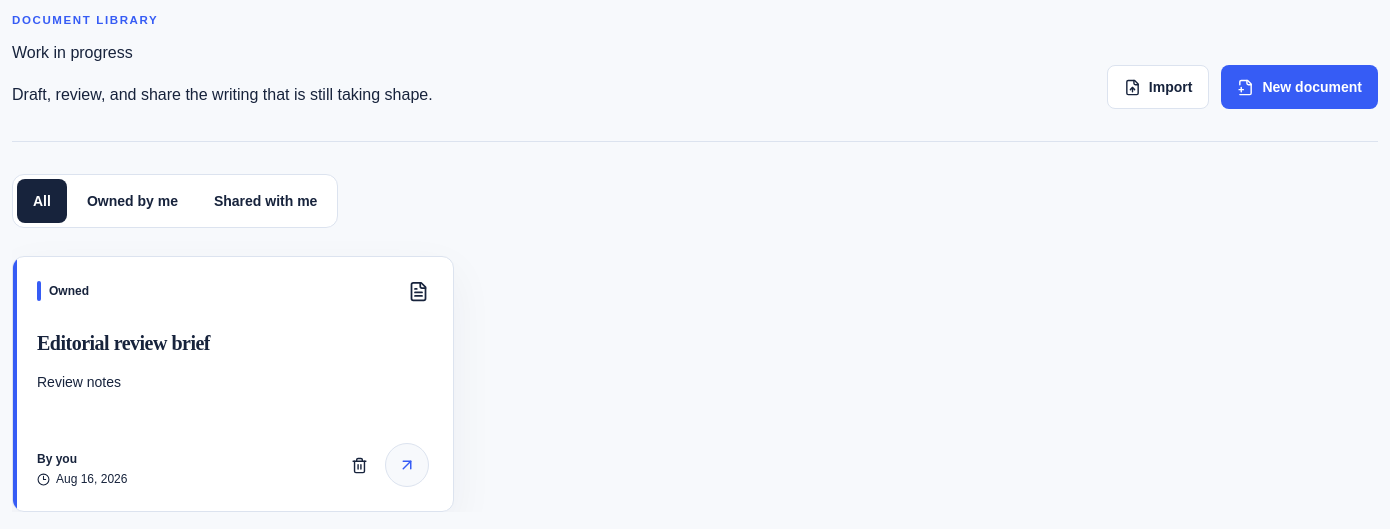
DocumentLibraryPage › labels owned and shared cards in color-independent markup
Expected: the text "Owned" is shown, [49, 283, 89, 299]
Click the tab "Shared with me".
click(266, 201)  # box [198, 179, 333, 223]
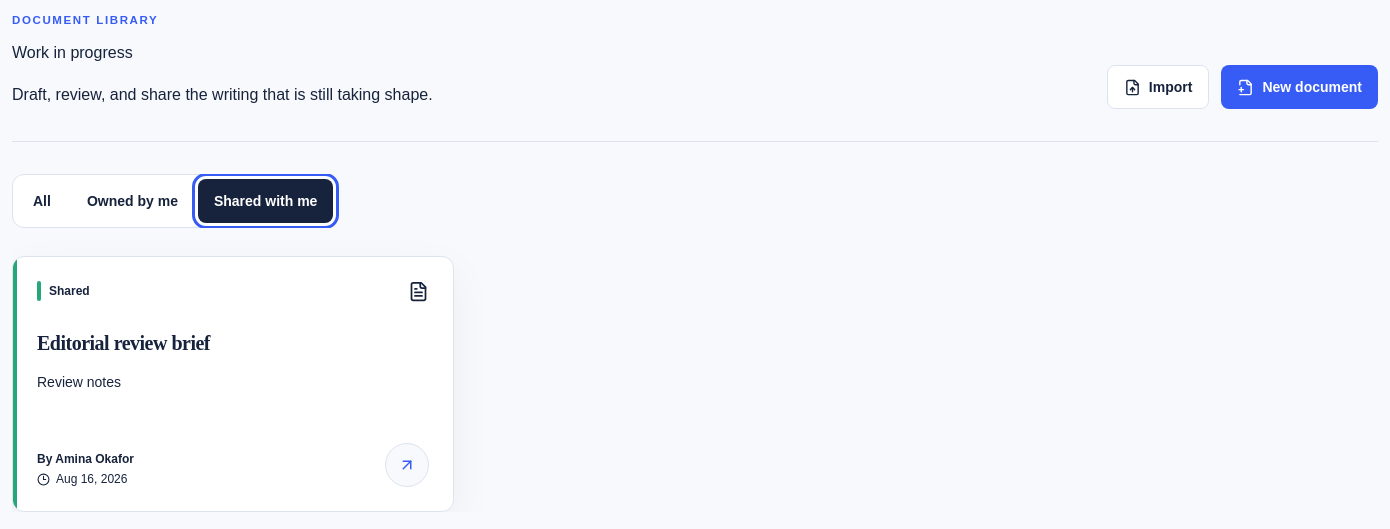
Expected: the text "Shared" is shown, [49, 283, 90, 299]
